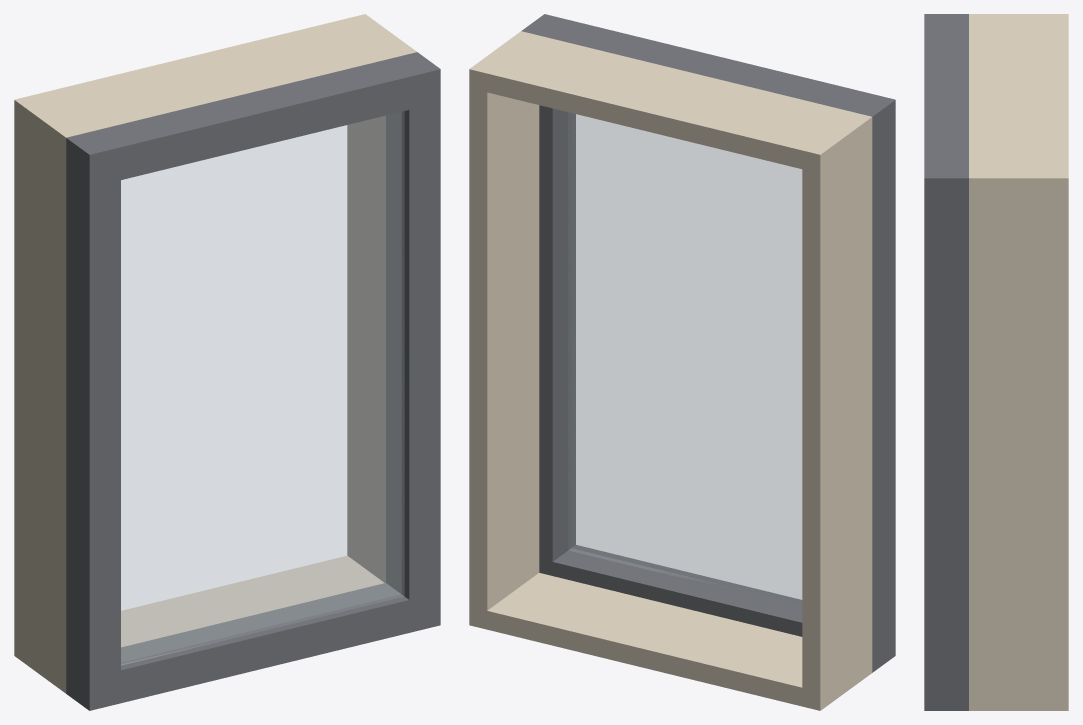
3 renders of one model, left to right at view 1: azimuth 30°, elevation 25°; view 2: azimuth 150°, elevation 25°; view 3: azimuth 270°, elevation 25°, orthographic. The views are drawn at different scales.
Visible parts, largest first — view 1: Glass, Frame, Lining; view 2: Lining, Glass, Frame; view 3: Lining, Frame.
Part boxes in pixels (left/top/right/bottom): Glass: left=121, top=112, right=404, bottom=665; Frame: left=66, top=52, right=440, bottom=710; Lining: left=14, top=14, right=416, bottom=693; Lining: left=469, top=31, right=872, bottom=710; Glass: left=568, top=113, right=801, bottom=606; Frame: left=521, top=14, right=895, bottom=672; Lining: left=969, top=14, right=1068, bottom=710; Frame: left=924, top=14, right=968, bottom=710.
Bounding box in the file's own units: 0.78 × 1.18 × 0.29.
